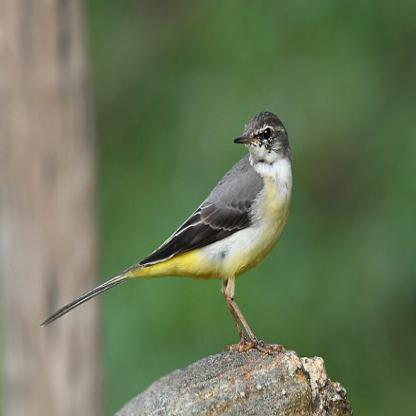Burung: (39, 106, 294, 352)
